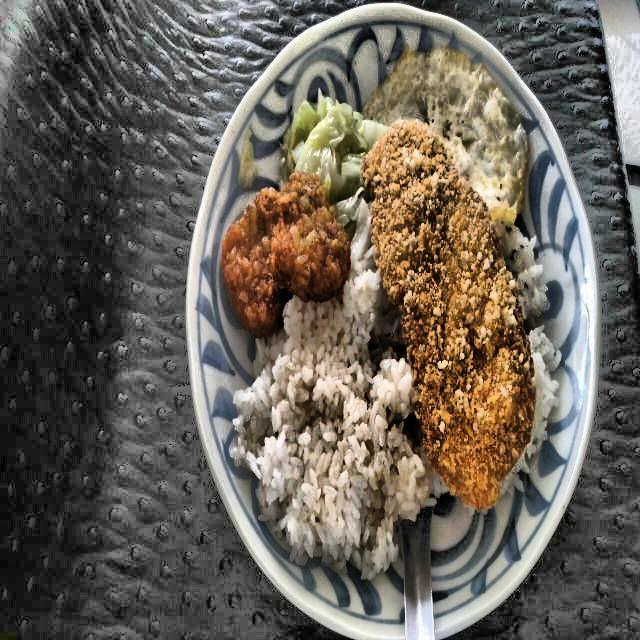Food: (356, 128, 540, 518), (254, 306, 406, 572), (370, 50, 528, 194), (225, 170, 348, 342), (276, 89, 367, 193)
